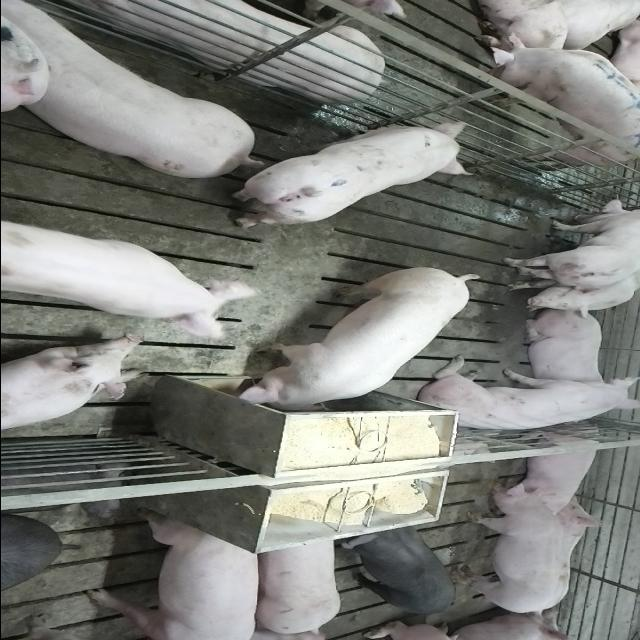Feeding: (229, 270, 477, 420), (0, 210, 255, 345)
Sitting: (414, 359, 636, 436), (497, 199, 639, 317)
Standing: (6, 5, 266, 184), (228, 122, 477, 226), (89, 512, 260, 639), (490, 39, 640, 174), (453, 483, 561, 619), (340, 523, 458, 615), (250, 528, 340, 632)
Sternal_lying: (57, 0, 389, 100), (0, 337, 145, 437), (508, 430, 604, 510), (517, 312, 607, 387)
